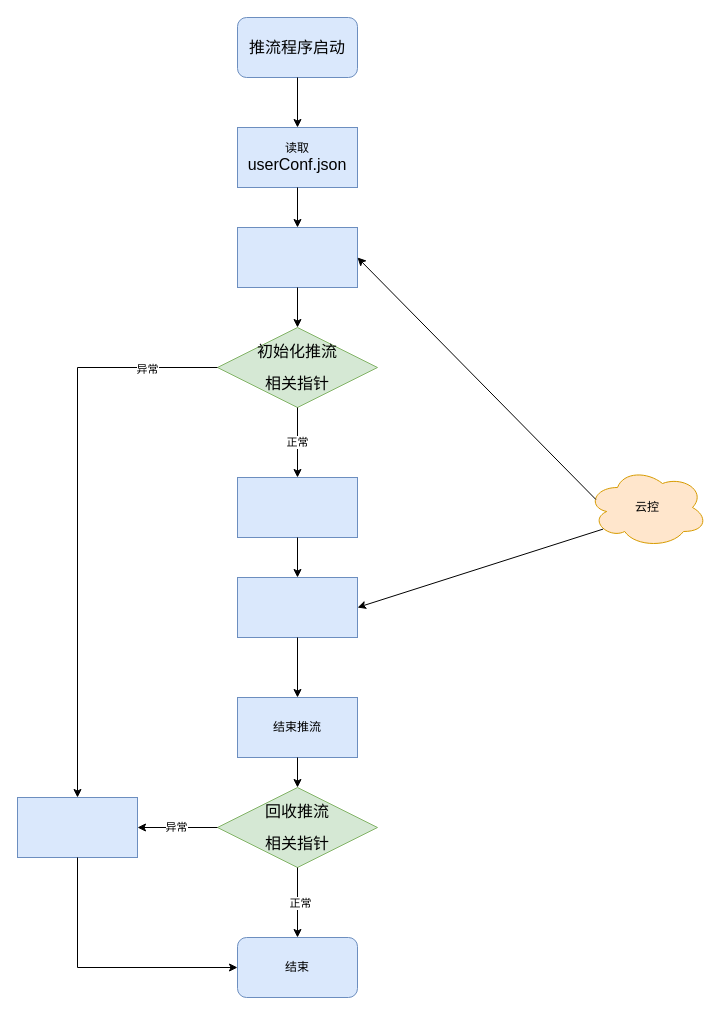
This 725x1015 diagram has some shape labels left out. The box of each missing label's shape, as (x1, y1, x2, y2) in pixels:
从云控接收推流指令: (236, 226, 358, 288)
从云控接收结束推流指令: (236, 576, 358, 638)
存异常日志: (16, 796, 138, 858)
开始推流: (236, 476, 358, 538)
